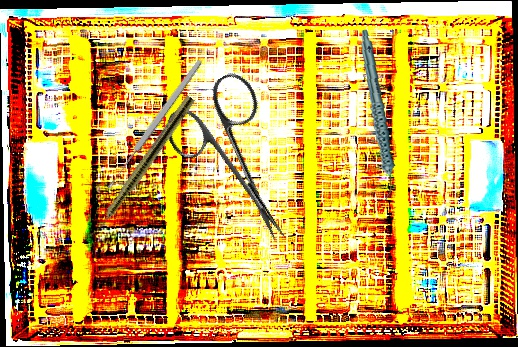Handpiece: (87, 93, 196, 242), (349, 28, 405, 202)
Iris Scissors: (155, 66, 325, 264)
Surgical Spoon: (103, 57, 205, 192)
